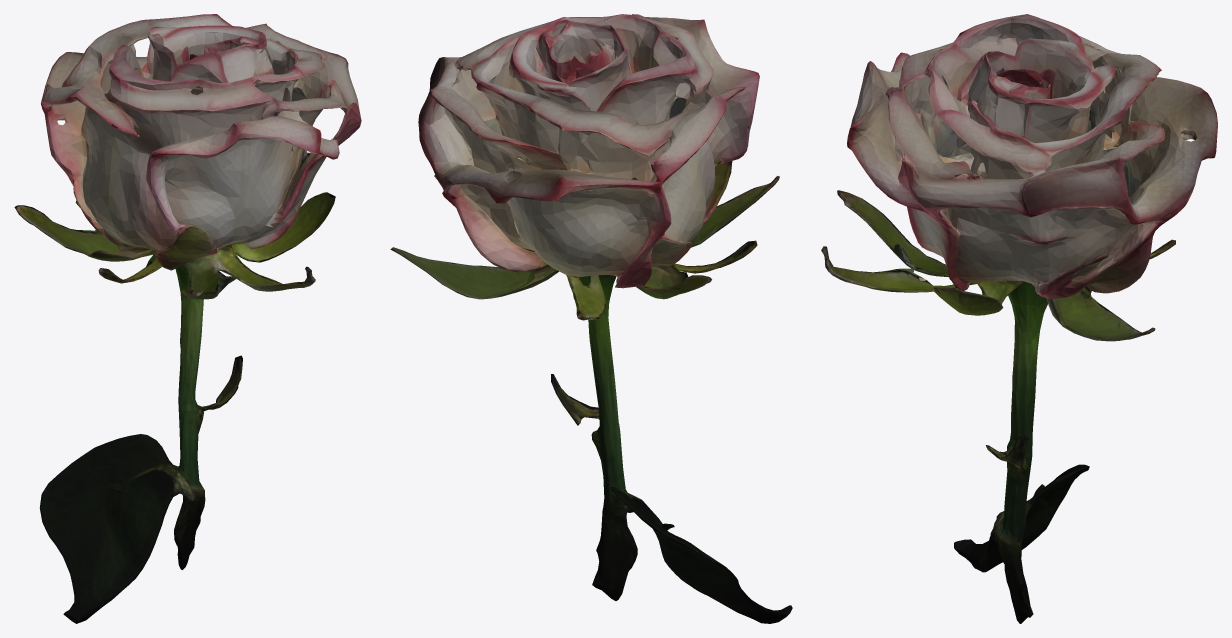
3 renders of one model, left to right at view 1: azimuth 30°, elevation 25°; view 2: azimuth 150°, elevation 25°; view 3: azimuth 270°, elevation 25°, orthographic. The views are drawn at different scales.
Parts seen in each view (by area): view 1: world; view 2: world; view 3: world.
Boxes of the visible parts, box(x1,y1,x2,y2) form: world: box(14, 14, 361, 623); world: box(390, 14, 792, 623); world: box(821, 14, 1217, 623).
Bounding box in the file's own units: 0.5945 × 0.9703 × 0.5923.
Materials: 1 (1 with a texture image).
